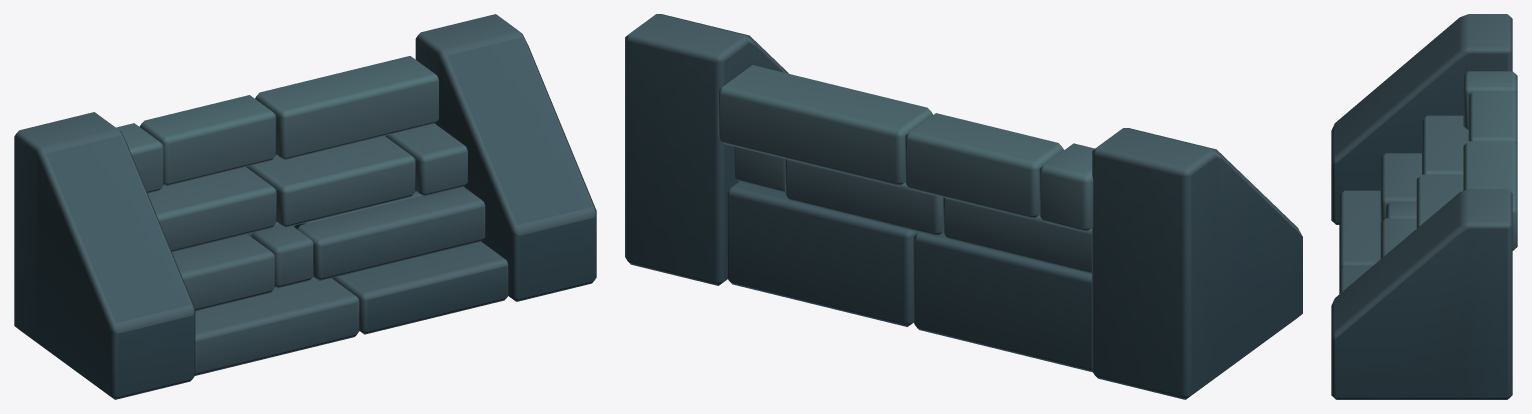
File: stairs_set_02.fbx
3 views of the same model, side by side, from view 1: azimuth 30°, elevation 25°; view 2: azimuth 150°, elevation 25°; view 3: azimuth 270°, elevation 25° (orthographic). The views are drawn at different scales.
Parts seen in each view (by area): view 1: stairs_set_02; view 2: stairs_set_02; view 3: stairs_set_02.
Boxes of the visible parts, x1,y1,x2,y2 form: stairs_set_02: (14, 14, 596, 399); stairs_set_02: (625, 14, 1302, 399); stairs_set_02: (1331, 14, 1517, 399).
Bounding box in the file's own units: 303 × 119 × 113.
